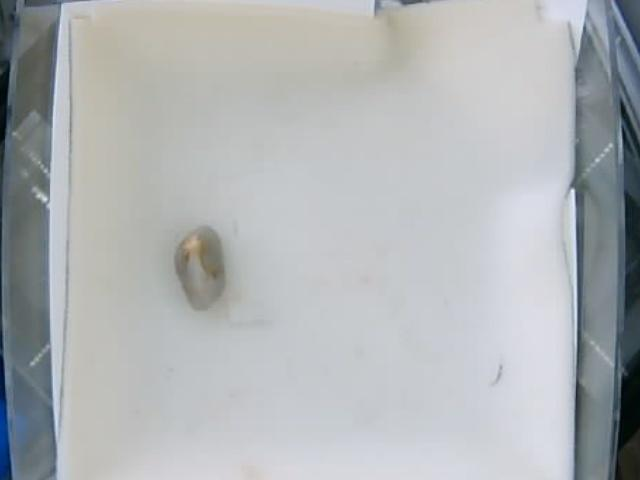Pebble: (175, 224, 223, 309)
